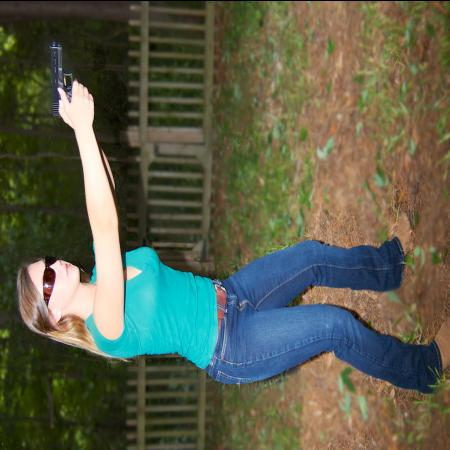Pistol: (47, 39, 94, 118)
